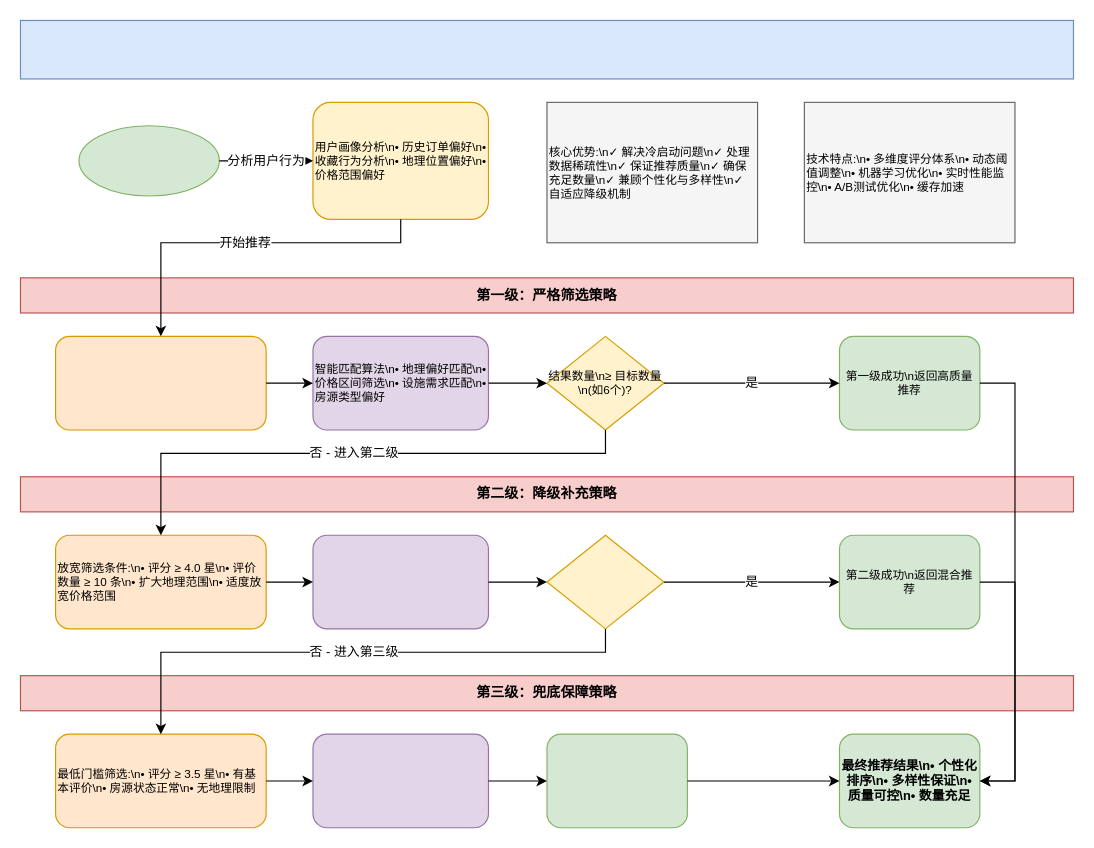
The diagram is 1094 pixels wide and 848 high, and some of its shapes have lost their labels. Here are the shapes that lost their labels. From the top down, the centre of each, then its label:
At [546,49]: "智能分级推荐引擎：兼顾热度、质量与多样性的分级推荐策略".
At [148,160]: "用户请求推荐".
At [160,382]: "严格筛选条件:\n• 评分 ≥ 4.5 星\n• 评价数量 ≥ 20 条\n• 活跃度高 (近30天有预订)\n• 完全匹配用户偏好".
At [400,581]: "加权推荐算法\n• 距离权重降低\n• 价格敏感度调整\n• 引入热门房源\n• 多样性保证".
At [605,581]: "总结果数量\n≥ 目标数量?".
At [400,780]: "通用推荐算法\n• 随机打散\n• 热门房源优先\n• 新房源曝光\n• 确保足够数量".
At [616,780]: "兜底成功\n保证基本体验".
